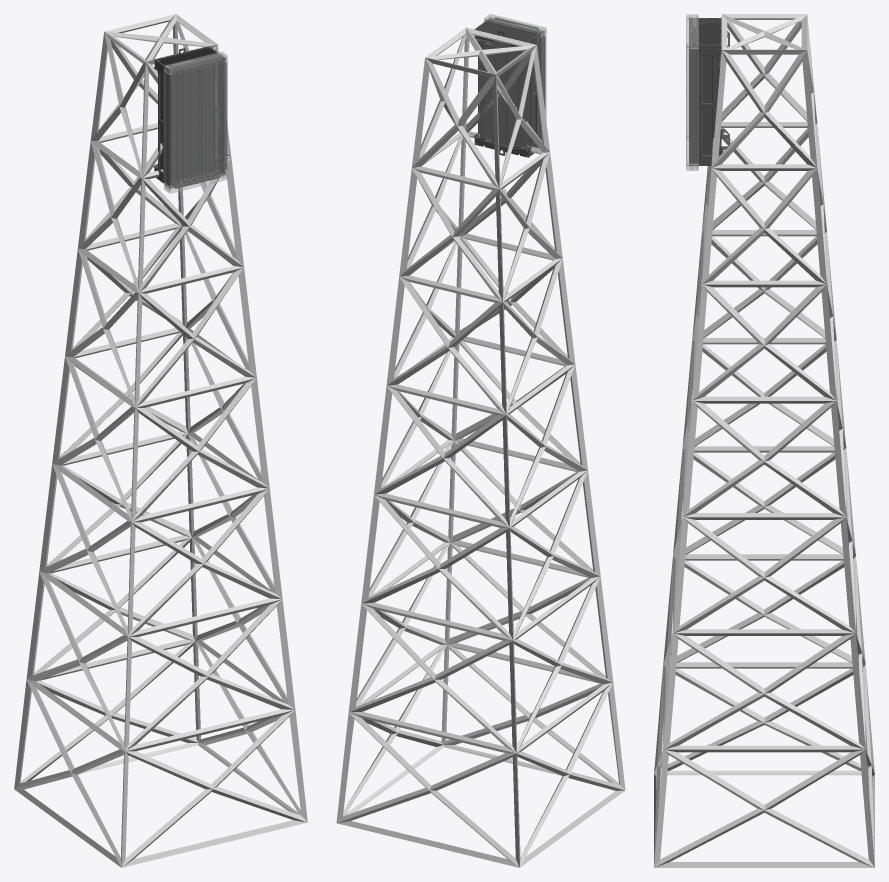
File: tower with ericsson.fbx
The picture shows the model from 3 angles, left to right: view 1: azimuth 30°, elevation 25°; view 2: azimuth 150°, elevation 25°; view 3: azimuth 270°, elevation 25°; orthographic projection. The views are drawn at different scales.
Visible parts, largest first — view 1: Cube, AIR6488; view 2: Cube, AIR6488; view 3: Cube, AIR6488.
Part boxes in pixels (box(x1,y1,x2,y2)): Cube: box(14, 14, 307, 867); AIR6488: box(153, 46, 227, 193); Cube: box(336, 27, 625, 867); AIR6488: box(473, 14, 546, 157); Cube: box(654, 14, 874, 867); AIR6488: box(686, 14, 729, 170).
Size of the model in its own units: 3.06 by 3.06 by 12.13.
Materials: 11 (2 with a texture image).
